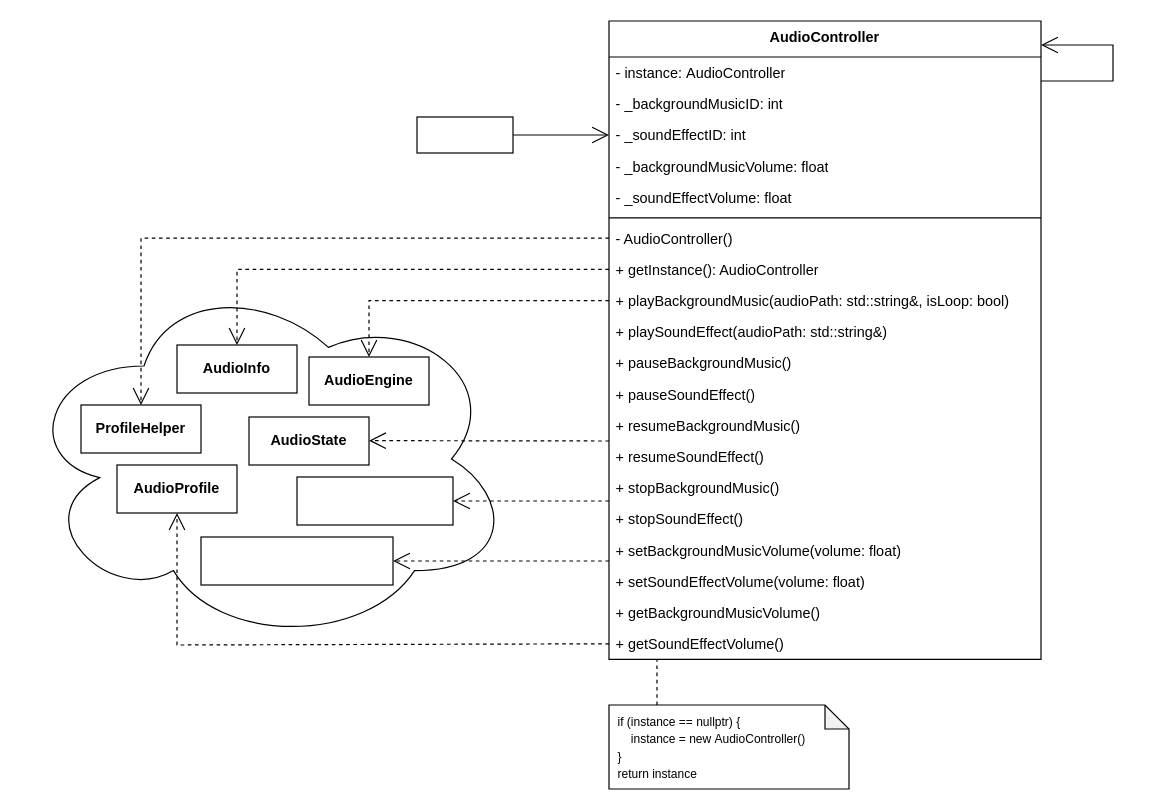
Some shapes in this 1151 by 810 pixel diagram are drawn without their labels. The centre of each missing label's shape, as x and y in pixels:
AudioEngineImpl: the point at 374,500
AudioEngineThreadPool: the point at 296,560
Client: the point at 464,134
